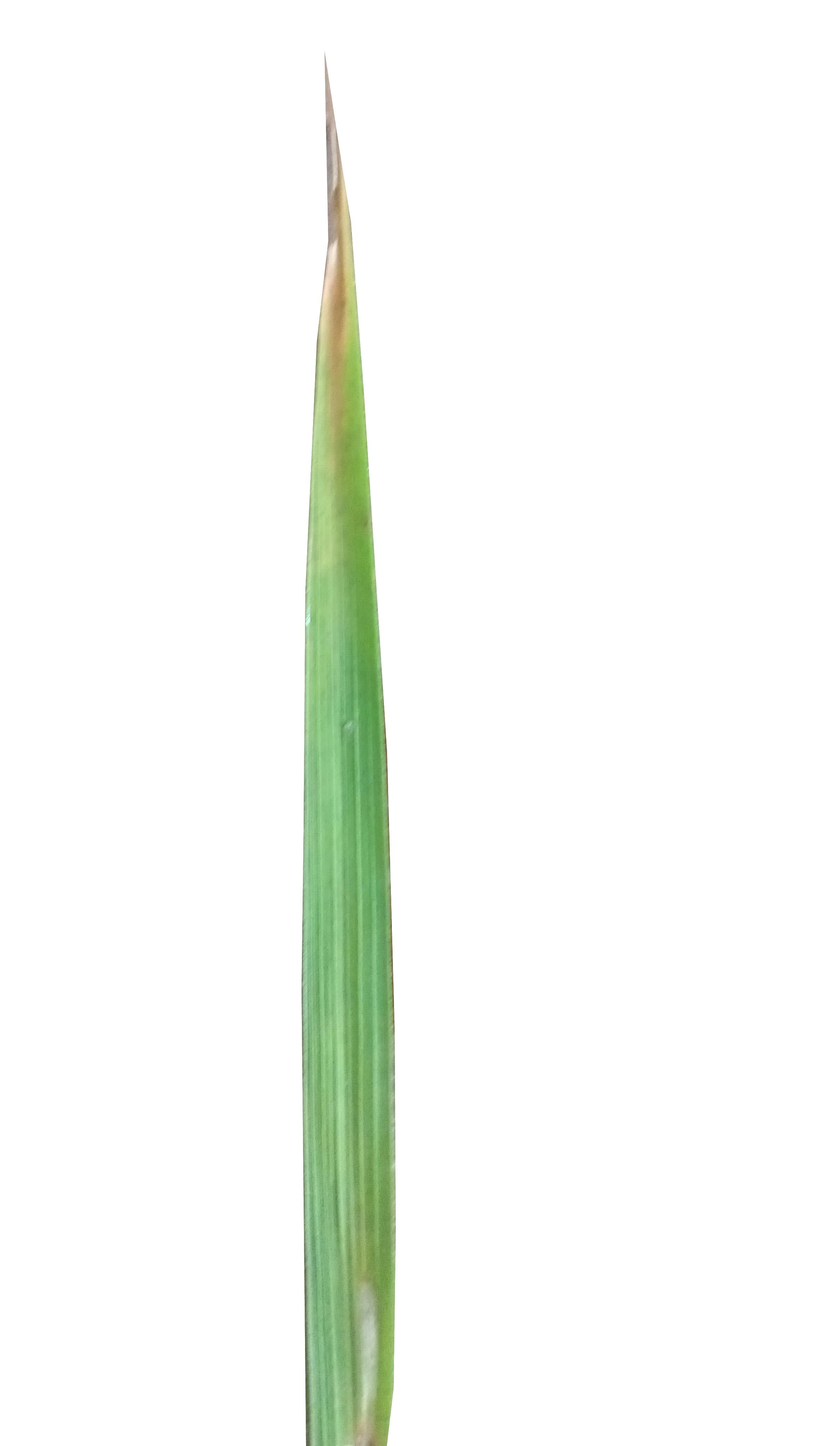Tungro: (306, 152, 376, 597)
